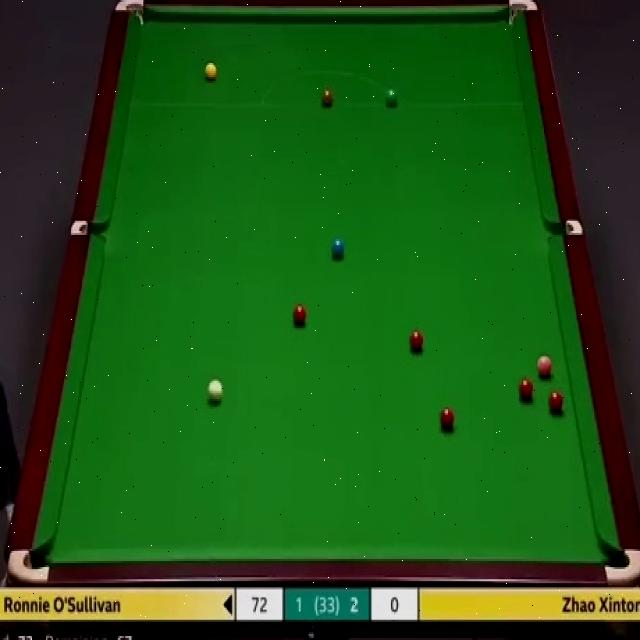blue-ball: (332, 238, 344, 260)
brown-ball: (322, 90, 334, 108)
green-ball: (386, 88, 397, 107)
pink-ball: (537, 353, 554, 379)
red-ball: (438, 406, 455, 432), (409, 327, 425, 352), (547, 392, 564, 413), (518, 379, 534, 400), (294, 304, 306, 327)
white-ball: (205, 377, 224, 405)
yellow-ball: (204, 62, 219, 84)
